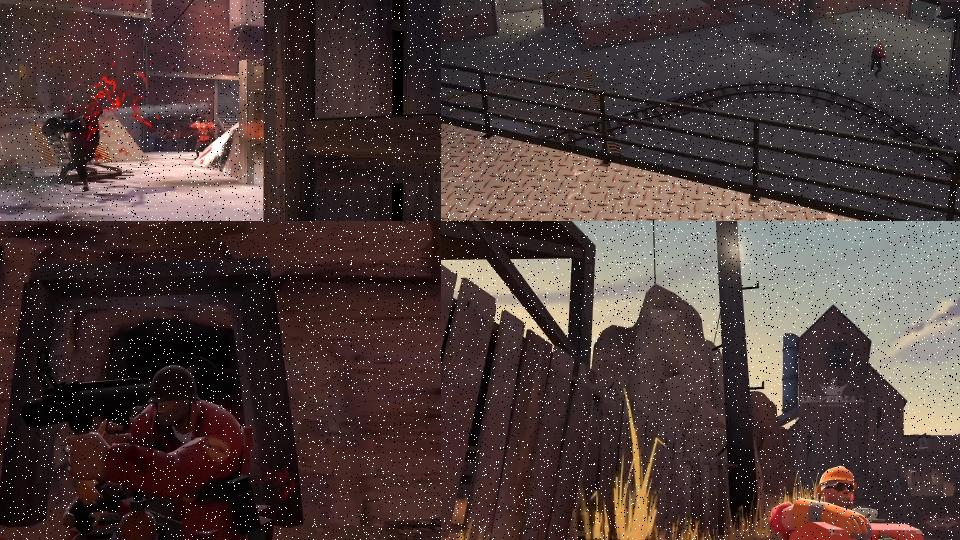Enemy: (16, 349, 287, 540), (767, 465, 933, 540), (40, 82, 104, 192), (190, 113, 215, 160), (864, 39, 888, 78), (158, 118, 181, 150)
